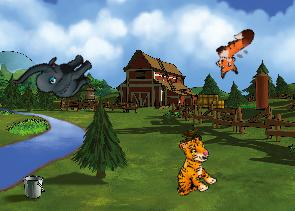elephant: (11, 32, 100, 120)
fox: (205, 25, 267, 82)
tiger: (160, 134, 223, 201)
